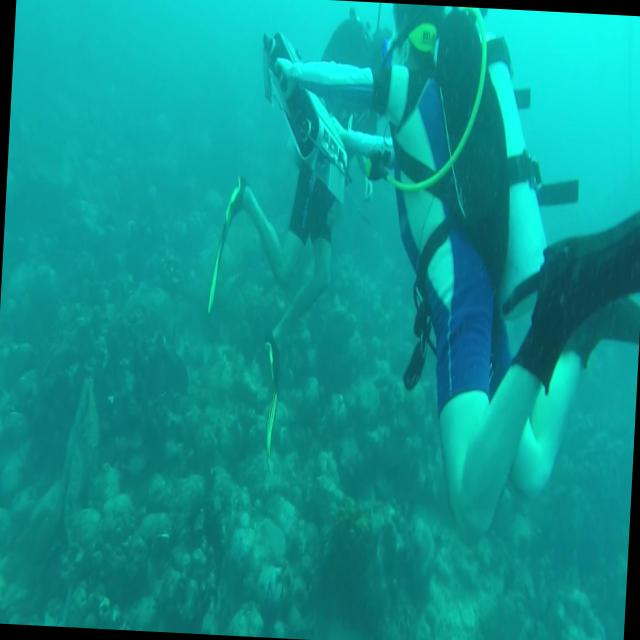human: (237, 0, 640, 551), (198, 13, 400, 486)
